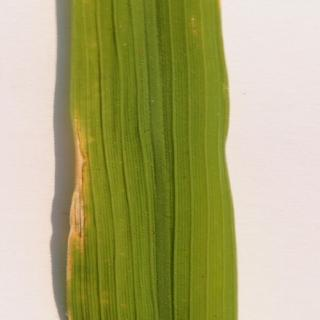Hawar-Daun: (65, 110, 101, 254)
